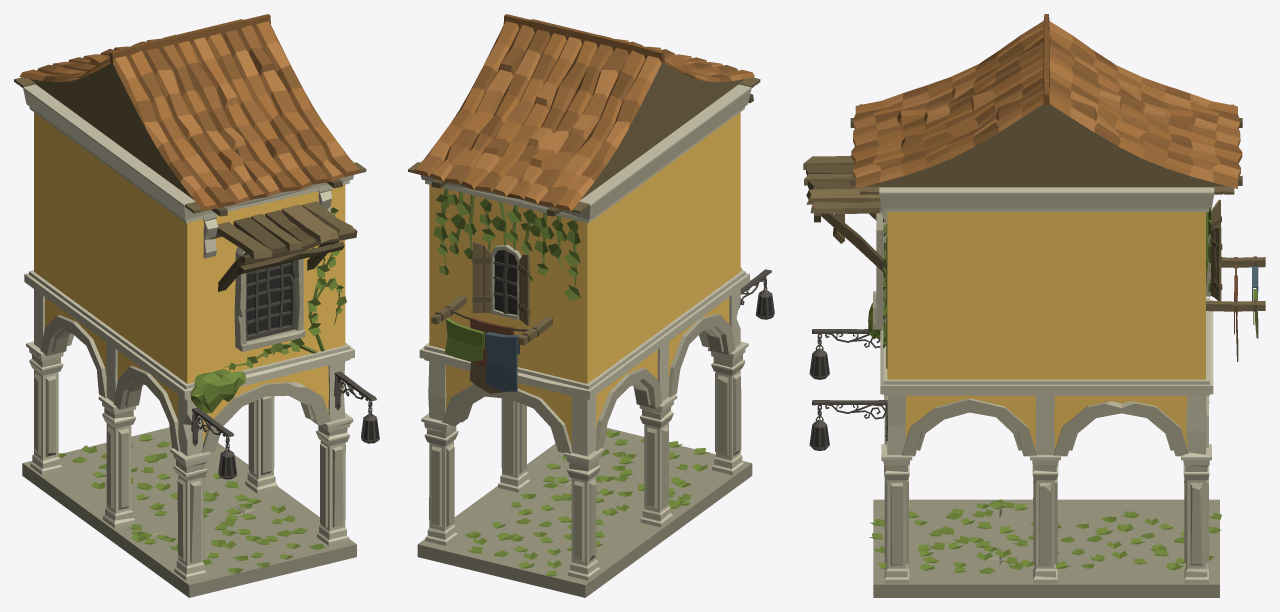
Rendered from Building_1.fbx.
The picture shows the model from 3 angles, left to right: view 1: azimuth 30°, elevation 25°; view 2: azimuth 150°, elevation 25°; view 3: azimuth 270°, elevation 25°; orthographic projection. The views are drawn at different scales.
Parts seen in each view (by area): view 1: Building_1; view 2: Building_1; view 3: Building_1.
Boxes of the visible parts, x1,y1,x2,y2 form: Building_1: [14, 14, 379, 597]; Building_1: [408, 14, 774, 597]; Building_1: [803, 14, 1265, 597].
Bounding box in the file's own units: 357 × 958 × 799.
